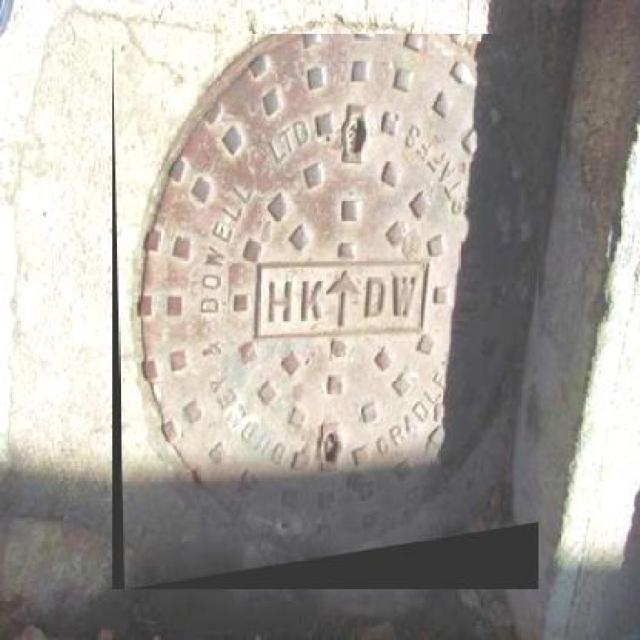Manhole: (112, 33, 538, 590)
